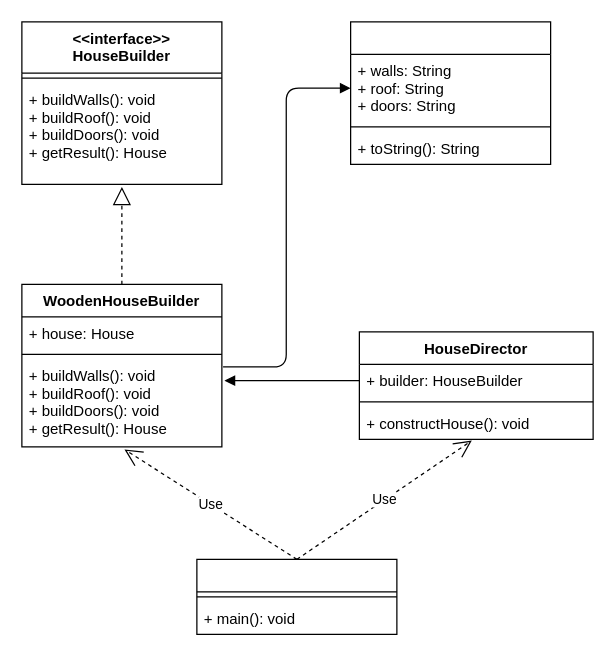
The diagram is 615 pixels wide and 660 high, and some of its shapes have lost their labels. Here are the shapes that lost their labels. From the top down, the box of each, then its label:
(349, 21, 551, 164): House
(196, 558, 397, 634): Test
